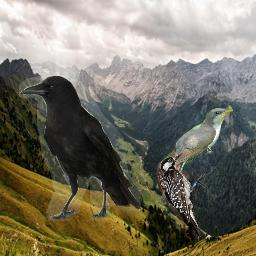Crow: (19, 75, 141, 221)
Cuckoo: (160, 108, 233, 203)
Woodpecker: (154, 150, 213, 241)
